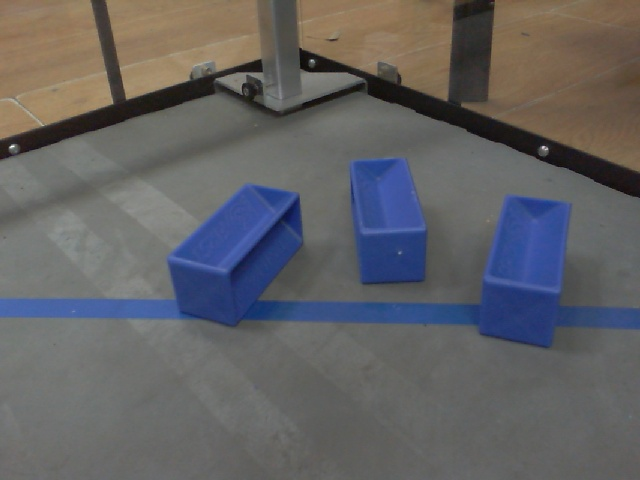BlueSample: (164, 178, 308, 328), (474, 190, 580, 349), (343, 152, 434, 289)
